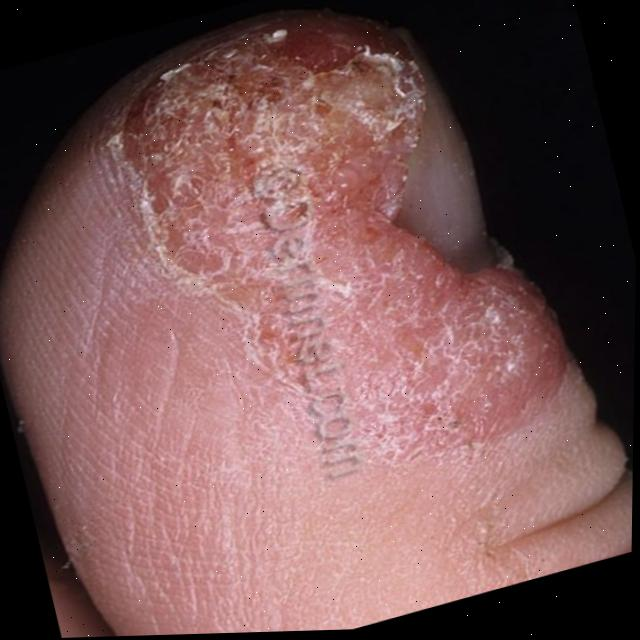Eczema: (90, 0, 512, 482)
